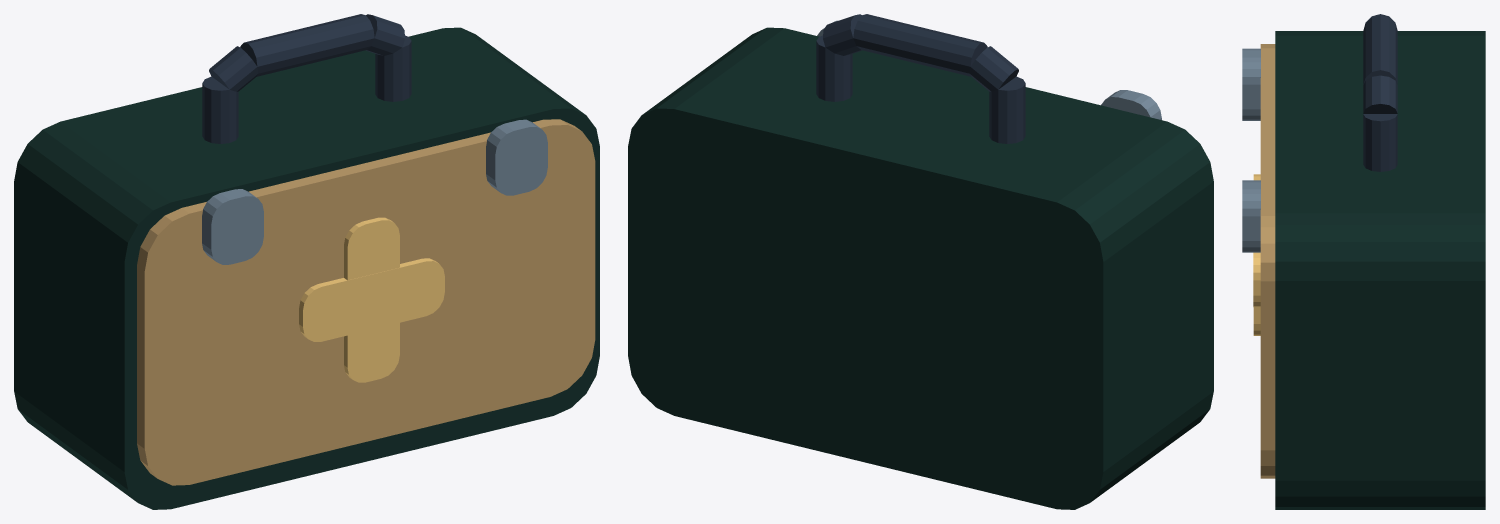
The model's file is firstaid.glb.
The picture shows the model from 3 angles, left to right: view 1: azimuth 30°, elevation 25°; view 2: azimuth 150°, elevation 25°; view 3: azimuth 270°, elevation 25°; orthographic projection. The views are drawn at different scales.
Visible parts, largest first — view 1: lid, case, cross horizontal, cross vertical, carry handle2, closure 0.46, closure -0.46, carry handle0, carry handle4, carry handle1, carry handle3; view 2: case, carry handle2, carry handle0, carry handle4, carry handle1, carry handle3, closure -0.46; view 3: case, lid, carry handle2, carry handle4, closure -0.46, closure 0.46, carry handle3, cross horizontal, cross vertical.
Boxes of the visible parts, x1,y1,x2,y2 form: lid: [137, 119, 595, 485]; case: [14, 27, 599, 509]; cross horizontal: [299, 258, 444, 341]; cross vertical: [344, 217, 399, 382]; carry handle2: [240, 14, 374, 76]; closure 0.46: [486, 119, 547, 195]; closure -0.46: [202, 189, 263, 264]; carry handle0: [202, 76, 238, 143]; carry handle4: [375, 35, 411, 101]; carry handle1: [209, 46, 258, 91]; carry handle3: [366, 14, 404, 55]; case: [628, 27, 1213, 509]; carry handle2: [853, 14, 987, 76]; carry handle0: [989, 76, 1025, 143]; carry handle4: [816, 35, 852, 101]; carry handle1: [969, 46, 1018, 91]; carry handle3: [823, 14, 861, 55]; closure -0.46: [1101, 90, 1161, 119]; case: [1275, 31, 1485, 509]; lid: [1260, 44, 1275, 478]; carry handle2: [1363, 15, 1397, 84]; carry handle4: [1363, 114, 1397, 171]; closure -0.46: [1242, 48, 1260, 120]; closure 0.46: [1242, 180, 1260, 252]; carry handle3: [1363, 75, 1397, 113]; cross horizontal: [1253, 252, 1260, 307]; cross vertical: [1253, 174, 1260, 335].
Size of the model in its own units: 1.54 by 1.22 by 0.7175.
